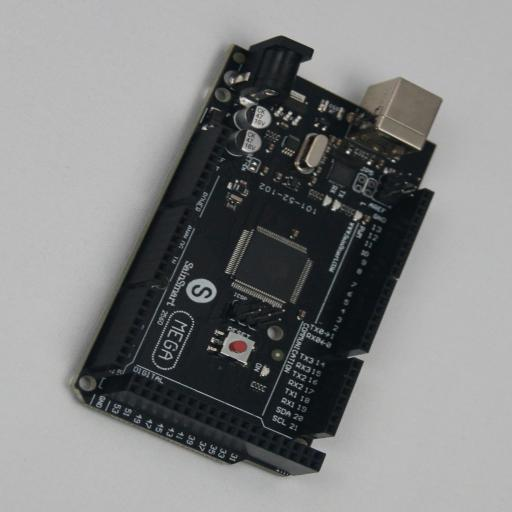Arduino Mega 2560 -Black-: (70, 36, 442, 476)
